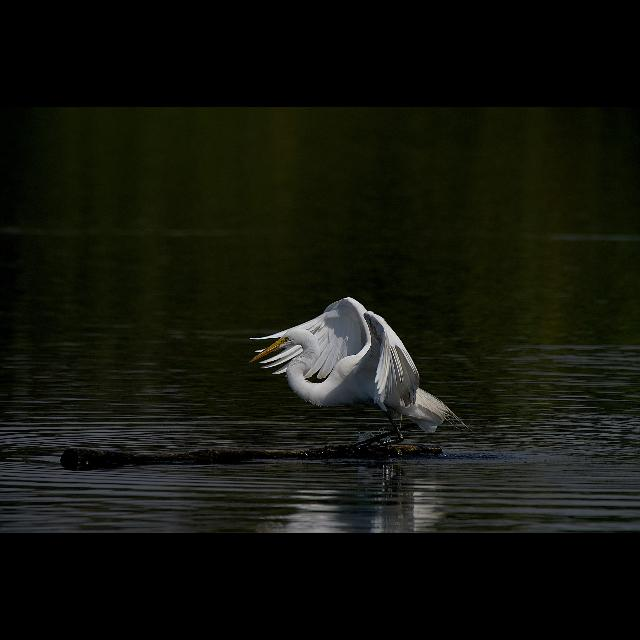egret: (250, 298, 446, 434)
